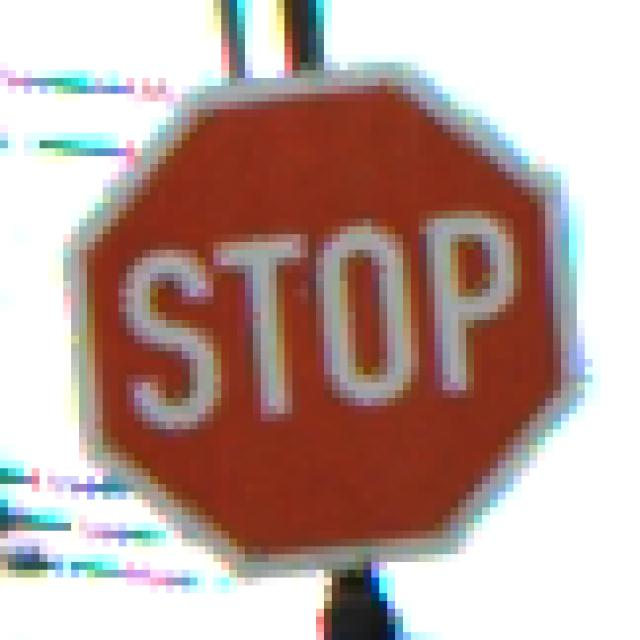STOP: (56, 64, 586, 579)
